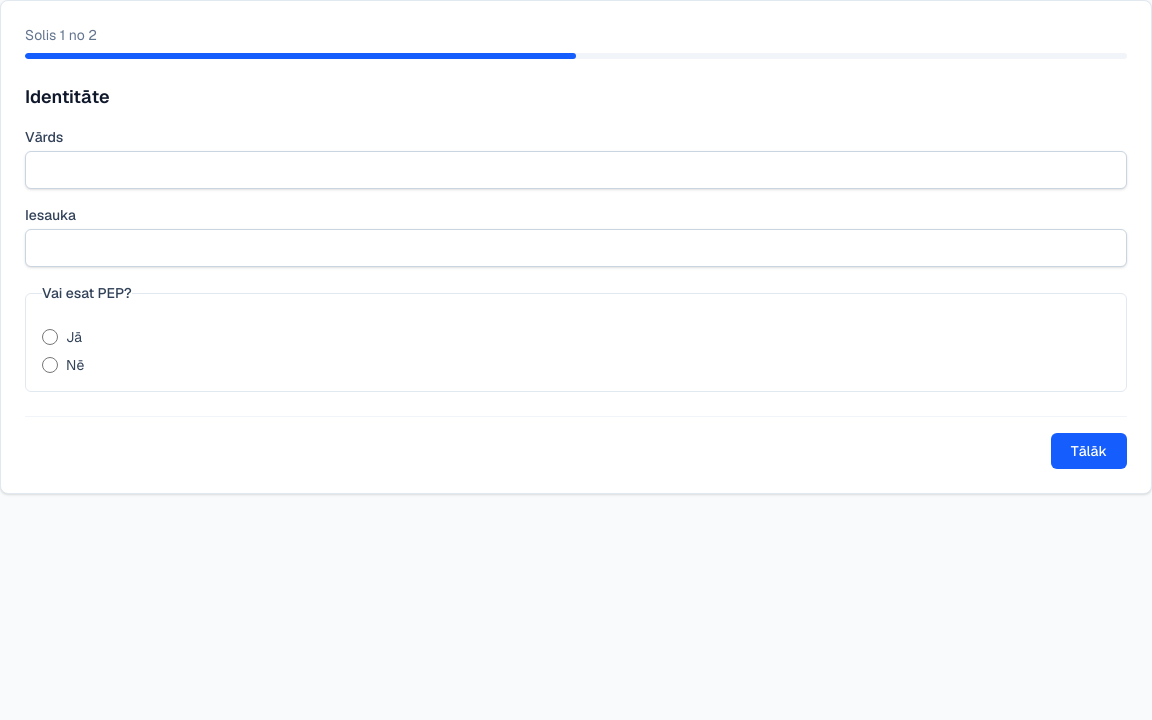
Test case: Wizard required fields › moves on once the required fields are answered
Type "Jānis" into the field labelled "Vārds".
click(576, 170); type("Jānis")  # box [25,151,1127,189]
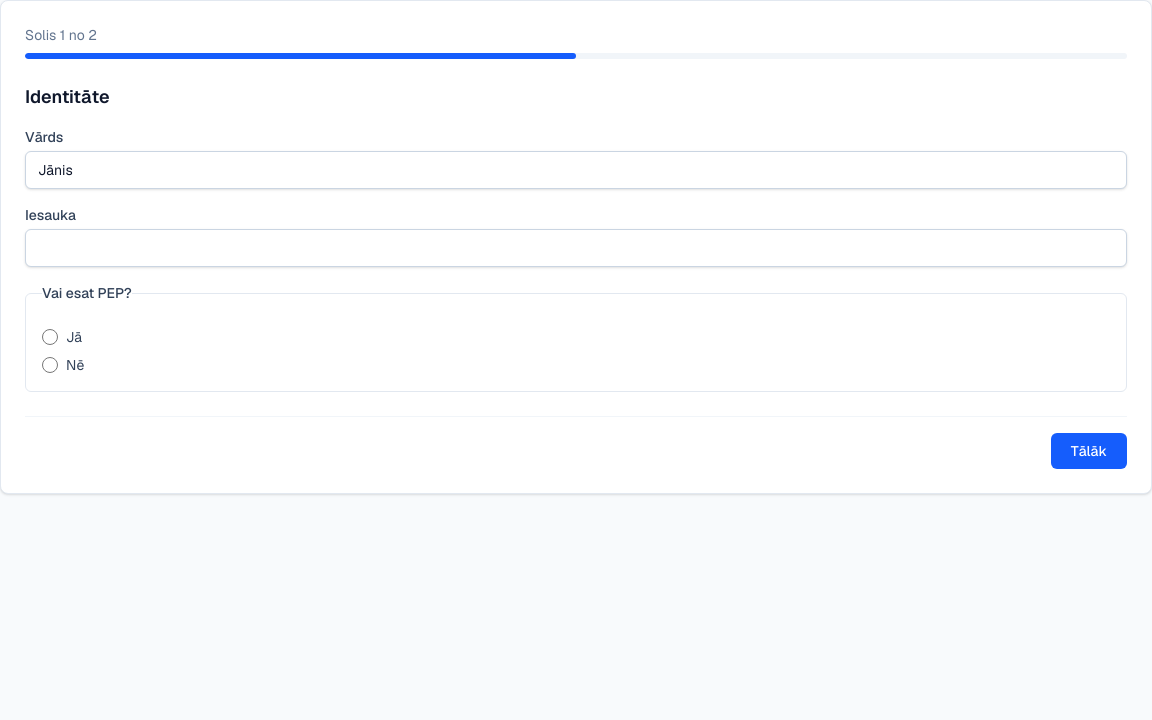
Click the radio button labelled "Nē".
click(50, 365)  # box [42,357,58,373]
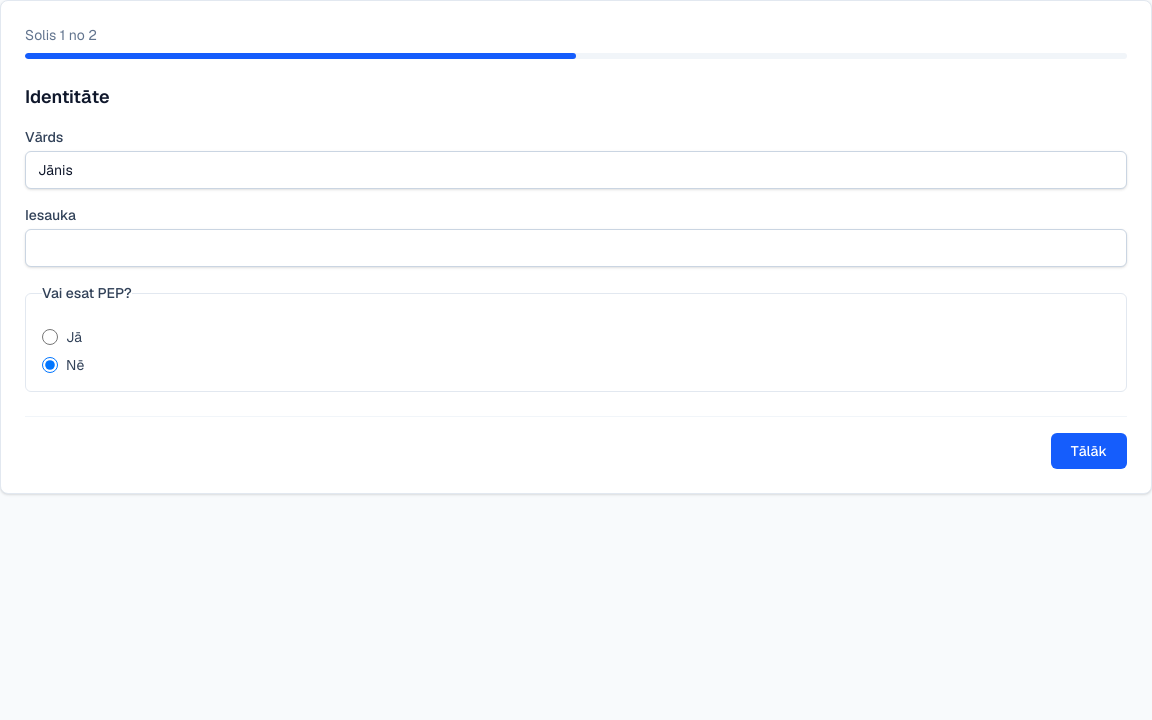
Click the button "Tālāk".
click(1089, 451)  # box [1051,433,1127,469]
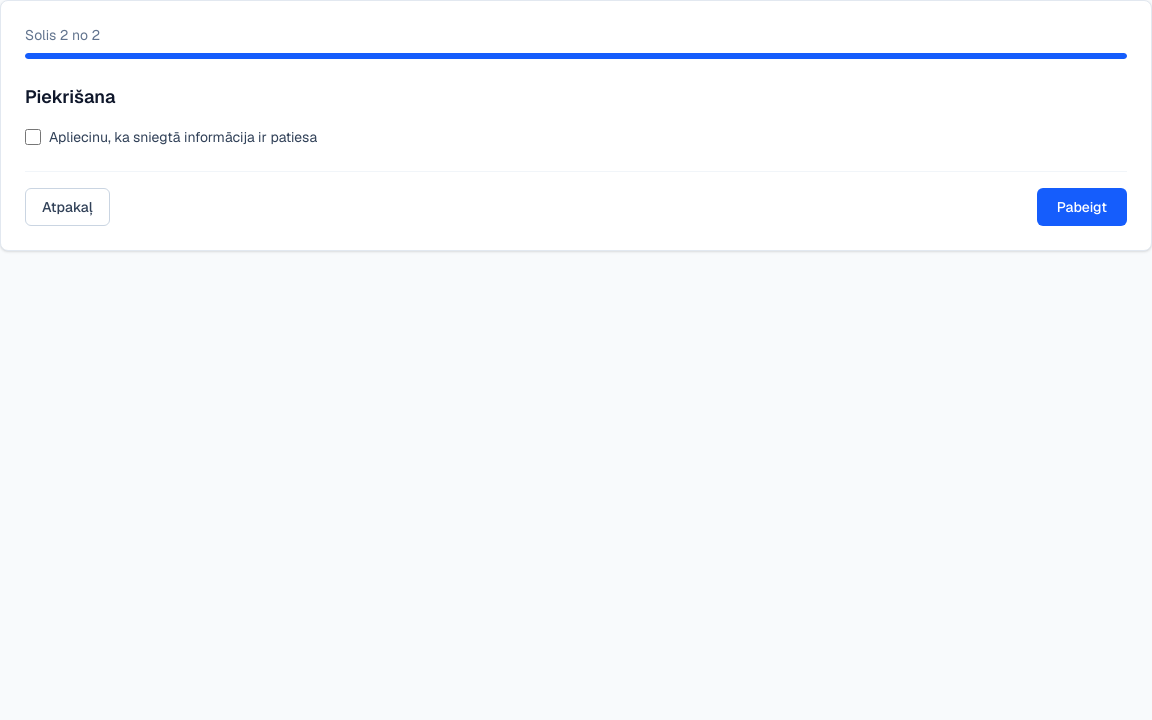
expect the heading "Piekrišana" is shown: met, box [25,85,115,108]
